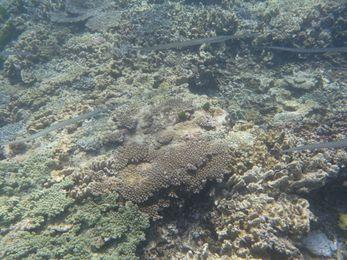Fistularia commersonii: (0, 0, 346, 259), (95, 25, 347, 83), (1, 100, 148, 146)
